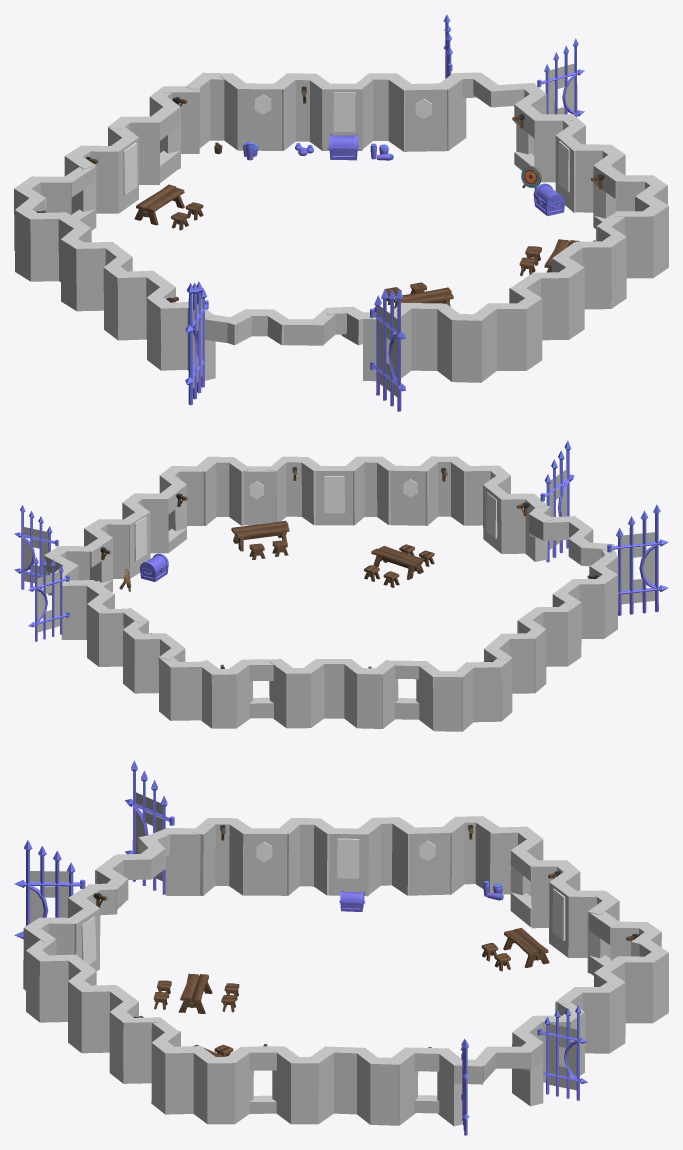
Rendered from SecondHome.fbx.
The picture shows the model from 3 angles, top to bottom: view 1: azimuth 30°, elevation 25°; view 2: azimuth 150°, elevation 25°; view 3: azimuth 270°, elevation 25°; orthographic projection. The views are drawn at different scales.
Parts seen in each view (by area): view 1: Graveyard_01__11_, Cube__67_, Cube__74_, Cube__112_, Cube__103_, Graveyard_01__10_, Cube__73_, Cube__123_, Cube__41_, Cube__126_, Cube__46_, Cube__110_ (+55 smaller); view 2: Graveyard_01__10_, Cube__35_, Graveyard_01__13_, Cube__72_, Cube__44_, Cube__90_, Cube__108_, Graveyard_01__12_, Graveyard_01__11_, Cube__68_, Cube__39_, Cube__86_ (+59 smaller); view 3: Cube__102_, Graveyard_01__11_, Cube__111_, Graveyard_01__13_, Cube__129_, Cube__40_, Cube__49_, Cube__43_, Graveyard_01__10_, Cube__36_, Cube__55_, Cube__69_ (+56 smaller).
Boxes of the visible parts, x1,y1,x2,y2 form: Graveyard_01__11_: (370, 289, 405, 411); Cube__67_: (238, 83, 282, 150); Cube__74_: (405, 83, 447, 151); Cube__112_: (30, 212, 66, 281); Cube__103_: (117, 270, 152, 340); Graveyard_01__10_: (185, 281, 208, 405); Cube__73_: (490, 303, 526, 370); Cube__123_: (401, 302, 446, 370); Cube__41_: (575, 241, 611, 309); Cube__126_: (452, 313, 480, 382); Cube__46_: (615, 211, 653, 278); Cube__110_: (76, 242, 109, 311); Graveyard_01__10_: (607, 504, 668, 615); Cube__35_: (390, 465, 425, 525); Graveyard_01__13_: (28, 557, 69, 641); Cube__72_: (170, 661, 203, 720); Cube__44_: (243, 466, 276, 525); Cube__90_: (434, 671, 462, 731); Cube__108_: (469, 662, 501, 722); Graveyard_01__12_: (14, 505, 58, 595); Graveyard_01__11_: (540, 441, 574, 562); Cube__68_: (134, 633, 165, 693); Cube__39_: (315, 466, 352, 525); Cube__86_: (357, 668, 382, 728); Cube__102_: (243, 828, 287, 895); Graveyard_01__11_: (14, 840, 85, 939); Cube__111_: (408, 826, 450, 895); Graveyard_01__13_: (537, 1005, 587, 1100); Cube__129_: (165, 828, 200, 895); Cube__40_: (81, 985, 117, 1053); Cube__49_: (164, 1046, 201, 1114); Cube__43_: (123, 1017, 161, 1083); Graveyard_01__10_: (125, 760, 174, 894); Cube__36_: (39, 954, 77, 1022); Cube__55_: (370, 1057, 399, 1125); Cube__69_: (618, 956, 652, 1023).
Size of the model in its own units: 1171 by 248 by 1175.
